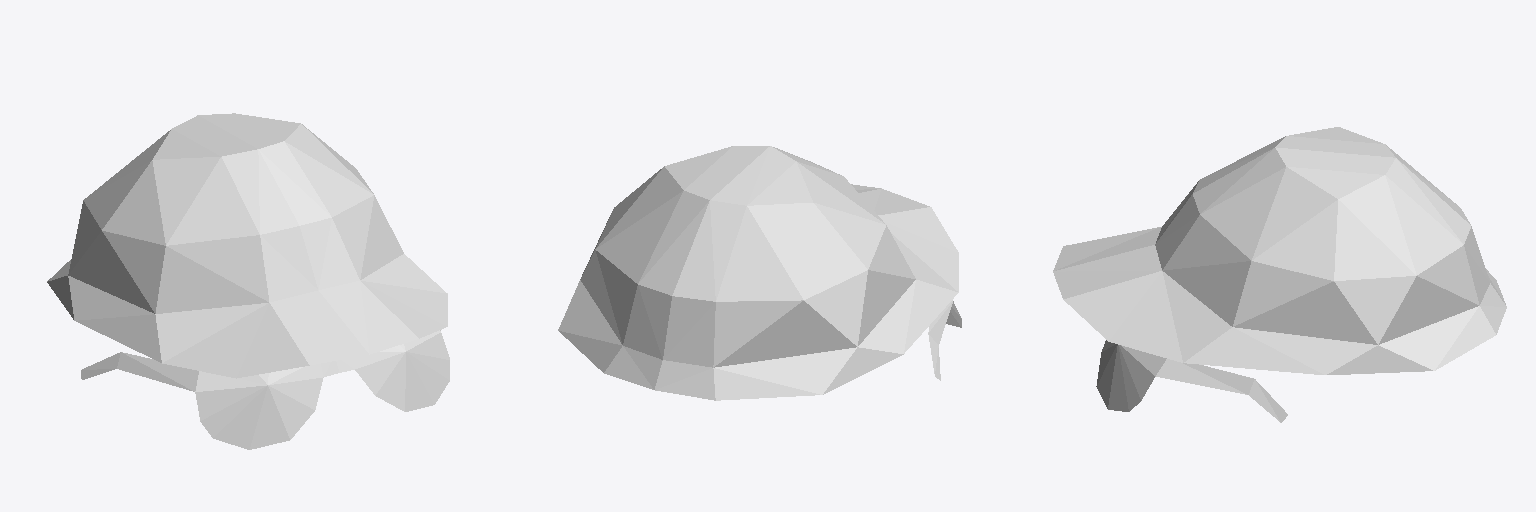
The model's file is enm_pawn_pla_Head.obj.
3 renders of one model, left to right at view 1: azimuth 30°, elevation 25°; view 2: azimuth 150°, elevation 25°; view 3: azimuth 270°, elevation 25°, orthographic.
Parts seen in each view (by area): view 1: polygon0, polygon1; view 2: polygon0; view 3: polygon0, polygon1.
Boxes of the visible parts, <box> form: polygon0: <box>47,113,447,391</box>; polygon1: <box>195,330,449,449</box>; polygon0: <box>558,146,958,400</box>; polygon0: <box>1053,127,1506,422</box>; polygon1: <box>1096,340,1166,411</box>.
Bounding box in the file's own units: 7.46 × 4.46 × 8.45.